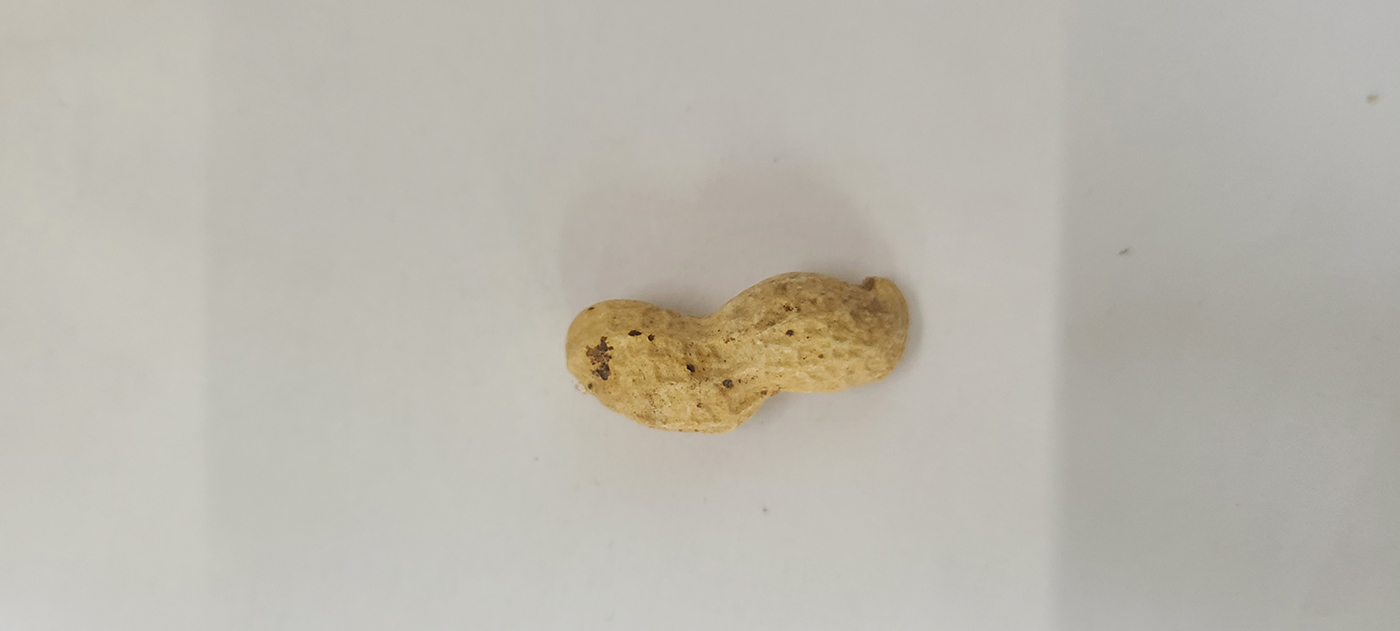h: (561, 270, 911, 433)
